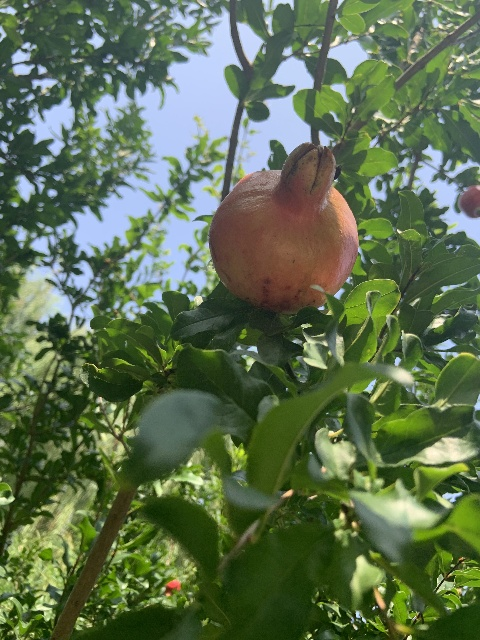ripe: (208, 141, 358, 312), (458, 185, 480, 218)
